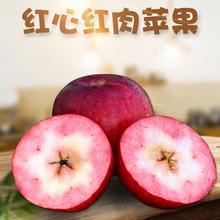apple: (11, 112, 117, 211), (114, 116, 217, 206), (52, 72, 153, 152)
